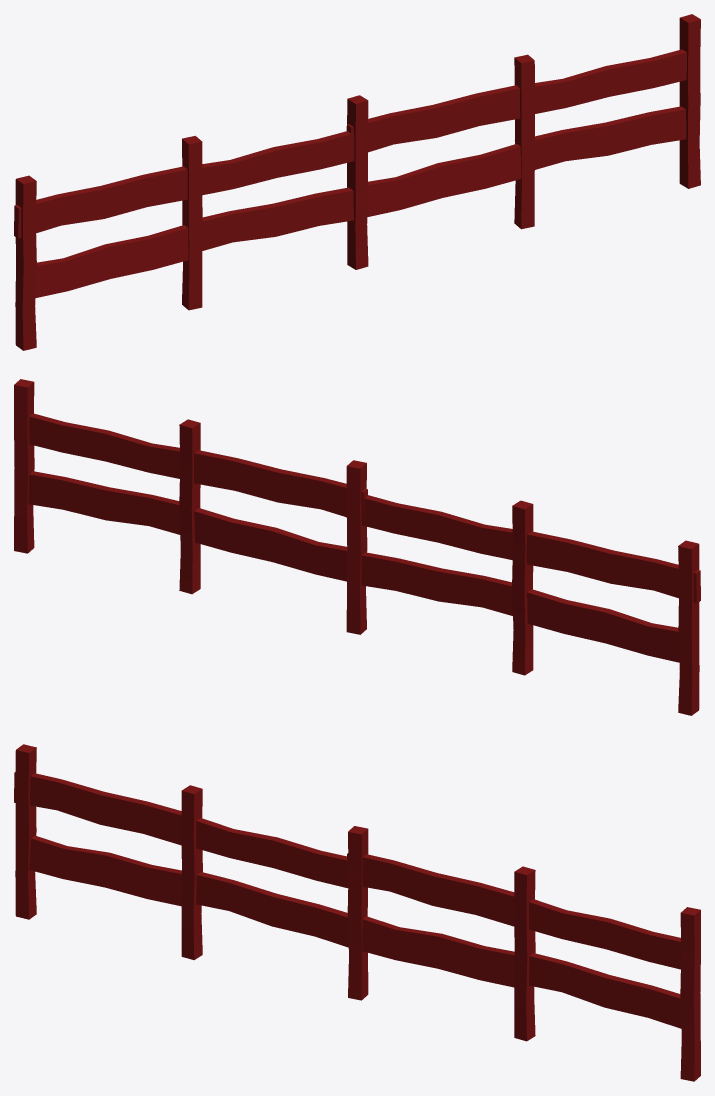
File: final-fence.fbx
The picture shows the model from 3 angles, top to bottom: view 1: azimuth 30°, elevation 25°; view 2: azimuth 150°, elevation 25°; view 3: azimuth 330°, elevation 25°; orthographic projection.
Visible parts, largest first — view 1: Box010, Box004, Box002, Box008, Box006, Box012, Box007, Box013, Box003, Box014, Box005, Box001 (+1 smaller); view 2: Box002, Box010, Box004, Box008, Box006, Box012, Box013, Box007, Box003, Box005, Box011, Box014 (+1 smaller); view 3: Box010, Box004, Box002, Box008, Box006, Box012, Box007, Box013, Box014, Box005, Box003, Box011 (+1 smaller).
Part boxes in pixels (x1=…): Box010: x1=367, y1=144, x2=521, y2=216; Box004: x1=35, y1=225, x2=188, y2=298; Box002: x1=14, y1=166, x2=187, y2=238; Box008: x1=346, y1=85, x2=520, y2=152; Box006: x1=202, y1=187, x2=353, y2=250; Box012: x1=535, y1=106, x2=686, y2=169; Box007: x1=202, y1=131, x2=354, y2=195; Box013: x1=535, y1=49, x2=686, y2=113; Box003: x1=15, y1=175, x2=36, y2=350; Box014: x1=679, y1=14, x2=700, y2=188; Box005: x1=182, y1=135, x2=202, y2=310; Box001: x1=347, y1=95, x2=368, y2=269; Box002: x1=526, y1=531, x2=700, y2=603; Box010: x1=194, y1=508, x2=347, y2=581; Box004: x1=527, y1=589, x2=679, y2=662; Box008: x1=194, y1=450, x2=367, y2=522; Box006: x1=361, y1=552, x2=512, y2=615; Box012: x1=28, y1=471, x2=180, y2=534; Box013: x1=29, y1=413, x2=180, y2=478; Box007: x1=362, y1=495, x2=512, y2=559; Box003: x1=678, y1=540, x2=699, y2=715; Box005: x1=512, y1=500, x2=533, y2=675; Box011: x1=179, y1=419, x2=200, y2=594; Box014: x1=14, y1=379, x2=34, y2=553; Box010: x1=362, y1=916, x2=514, y2=987; Box004: x1=29, y1=835, x2=181, y2=906; Box002: x1=14, y1=772, x2=181, y2=845; Box008: x1=347, y1=853, x2=514, y2=926; Box006: x1=196, y1=872, x2=348, y2=947; Box012: x1=529, y1=953, x2=681, y2=1028; Box007: x1=196, y1=818, x2=348, y2=888; Box013: x1=529, y1=899, x2=681, y2=969; Box014: x1=680, y1=907, x2=700, y2=1081; Box005: x1=181, y1=785, x2=202, y2=959; Box003: x1=15, y1=744, x2=36, y2=919; Box011: x1=514, y1=866, x2=535, y2=1041.
Bounding box in the file's own units: 247 × 57.62 × 5.58.
